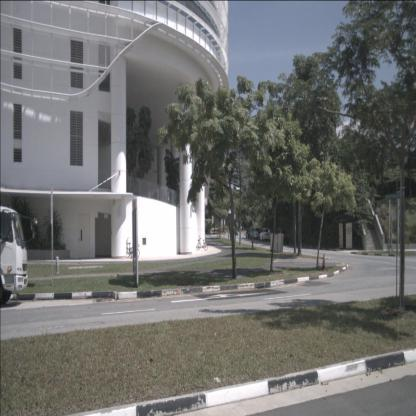cone: (322, 254, 326, 272)
